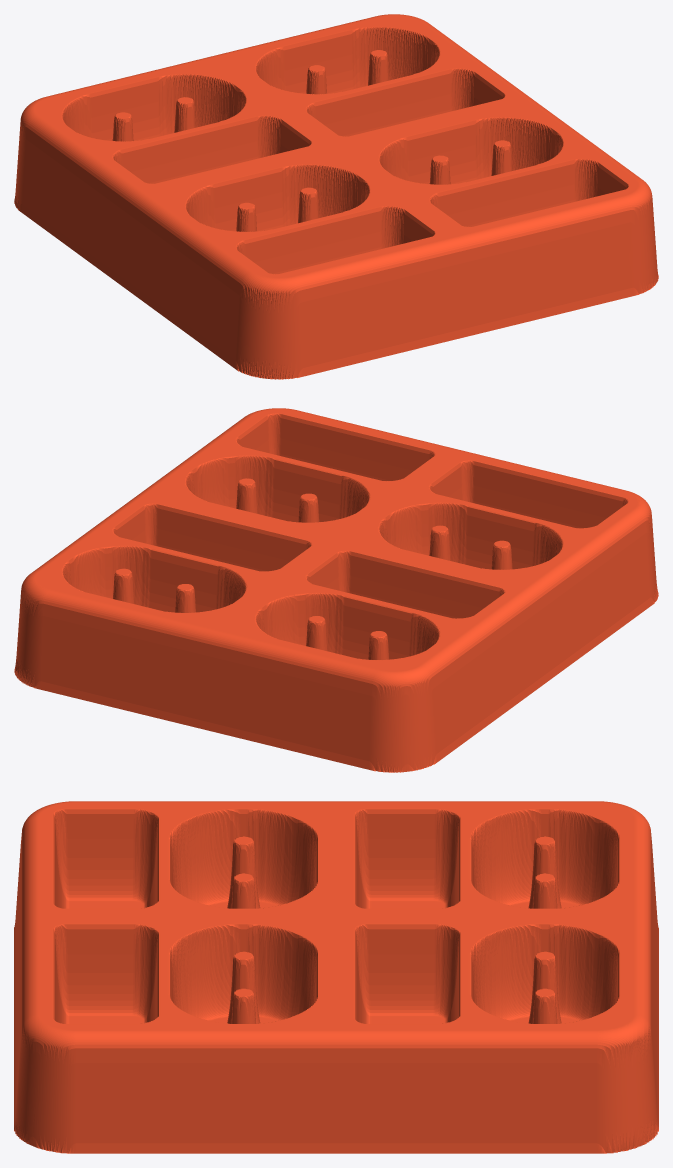
Rendered from mold.glb.
The picture shows the model from 3 angles, top to bottom: view 1: azimuth 30°, elevation 25°; view 2: azimuth 150°, elevation 25°; view 3: azimuth 270°, elevation 25°; orthographic projection. The views are drawn at different scales.
Visible parts, largest first — view 1: geometry_0; view 2: geometry_0; view 3: geometry_0.
Part boxes in pixels (x1=…): geometry_0: x1=14, y1=14, x2=658, y2=379; geometry_0: x1=14, y1=408, x2=658, y2=772; geometry_0: x1=14, y1=801, x2=658, y2=1153.
Bounding box in the file's own units: 0.0858 × 0.0182 × 0.0942.
